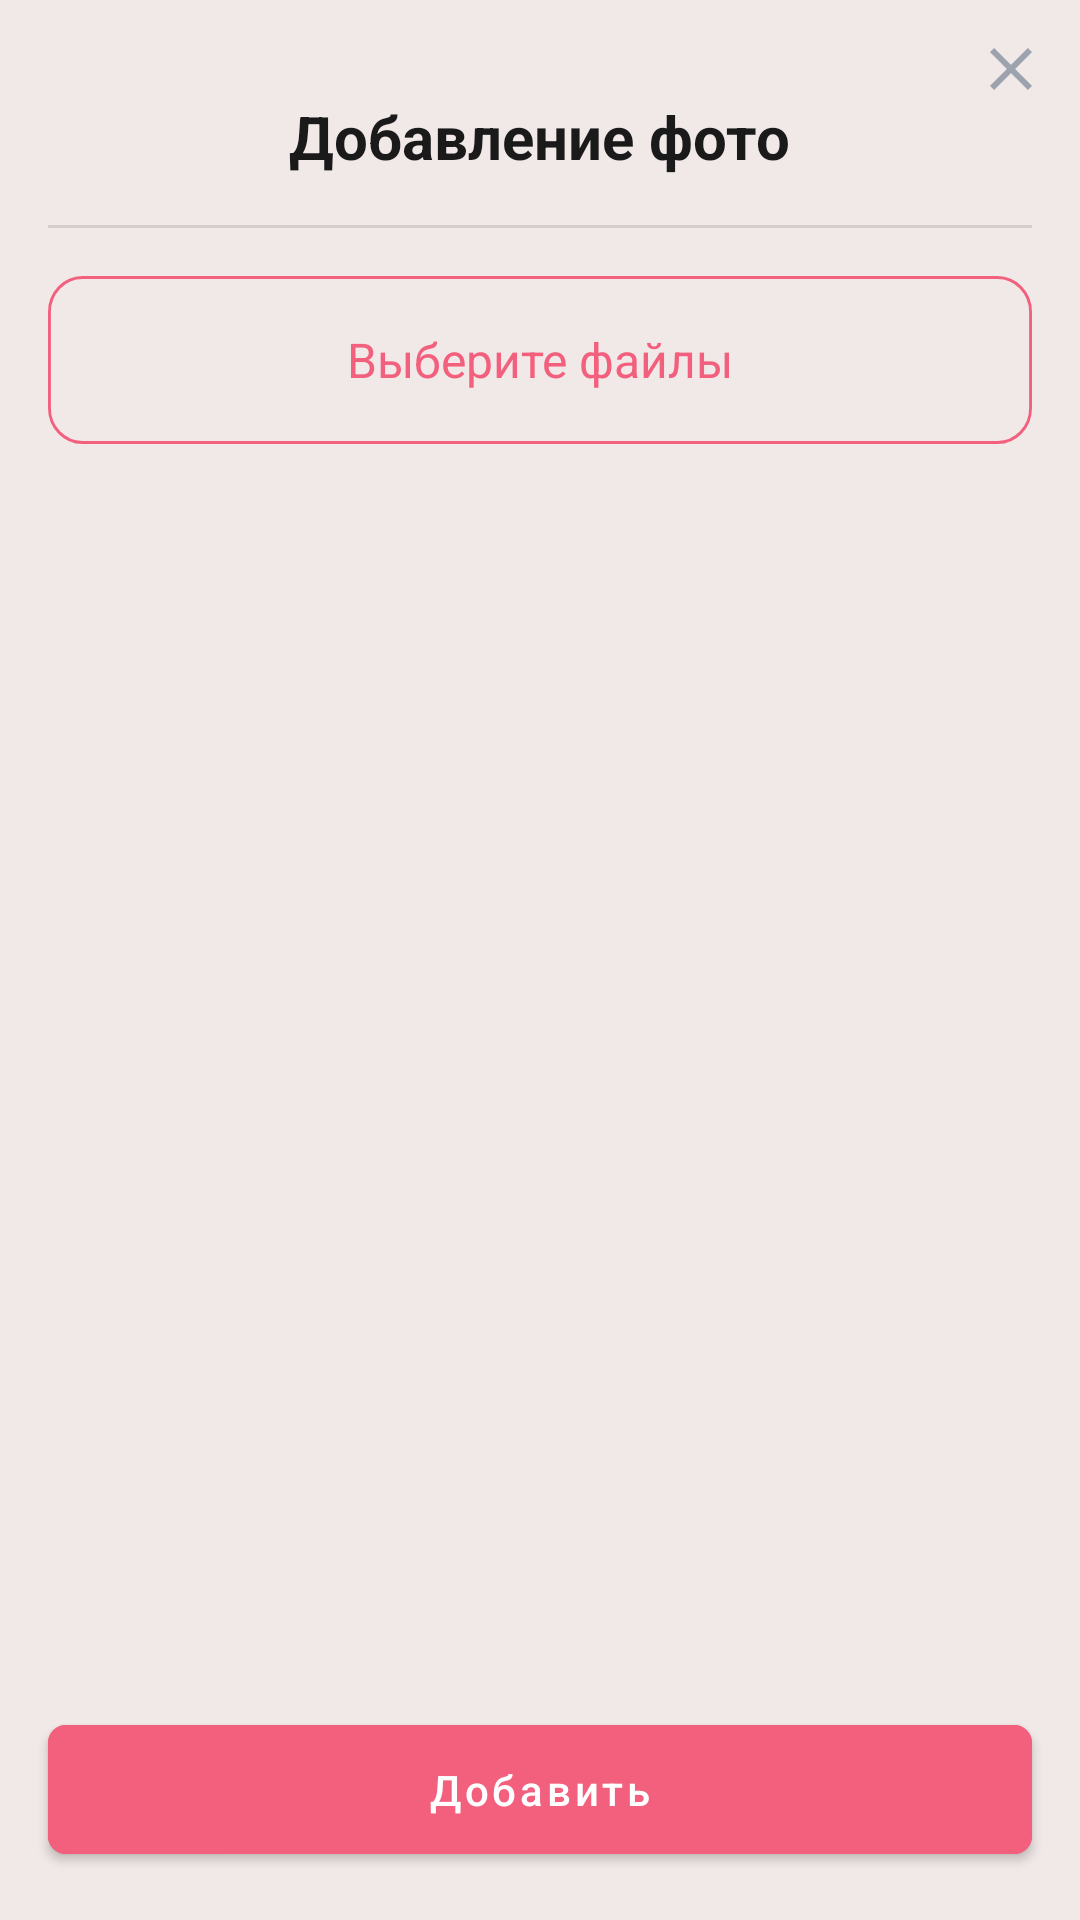

Screen size 1080 × 1920. Icon name, then its center in pixels as (x,y):
close: (1011,69)
